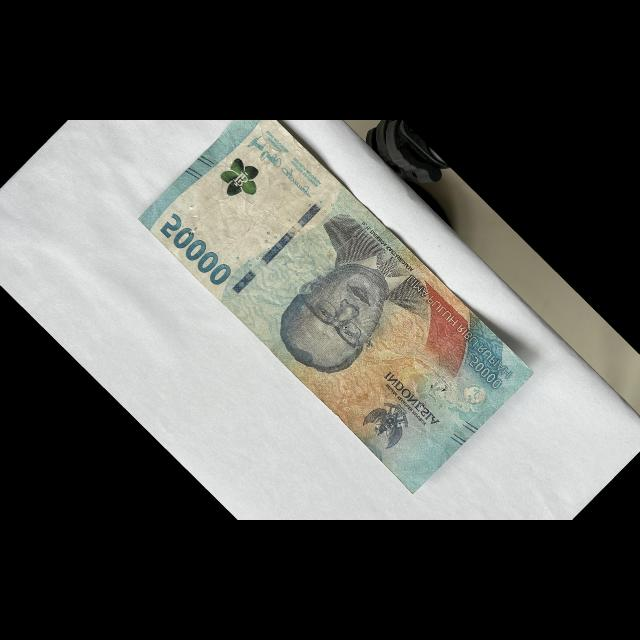Palsu-50k: (131, 95, 538, 499)
Tinta-Palsu-50k: (212, 151, 270, 209)
